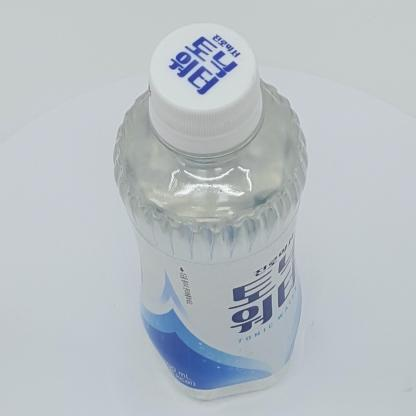----------300ML: (113, 23, 308, 400)
